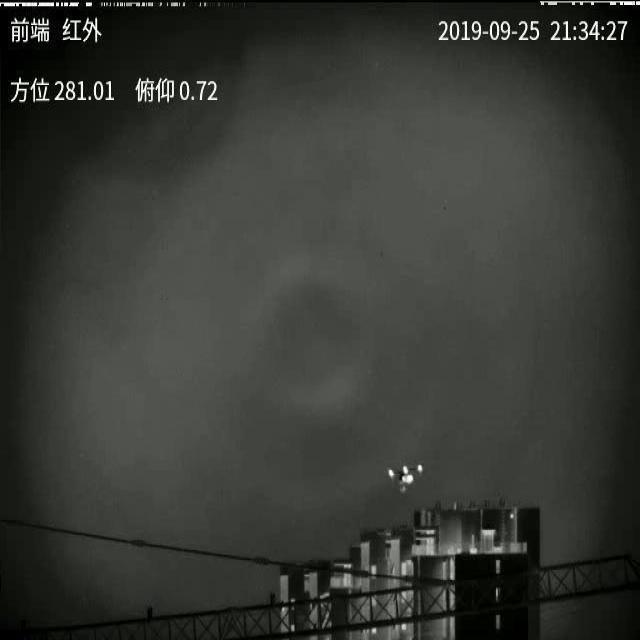drone: (389, 463, 429, 495)
